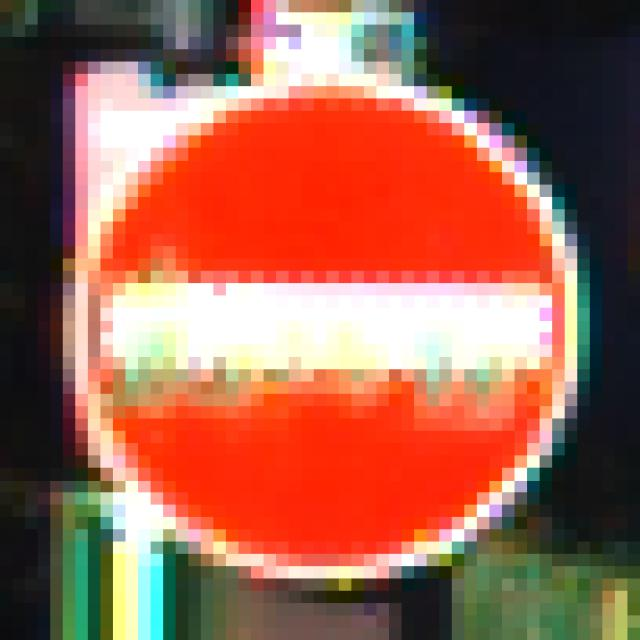No Entry: (64, 63, 578, 580)
